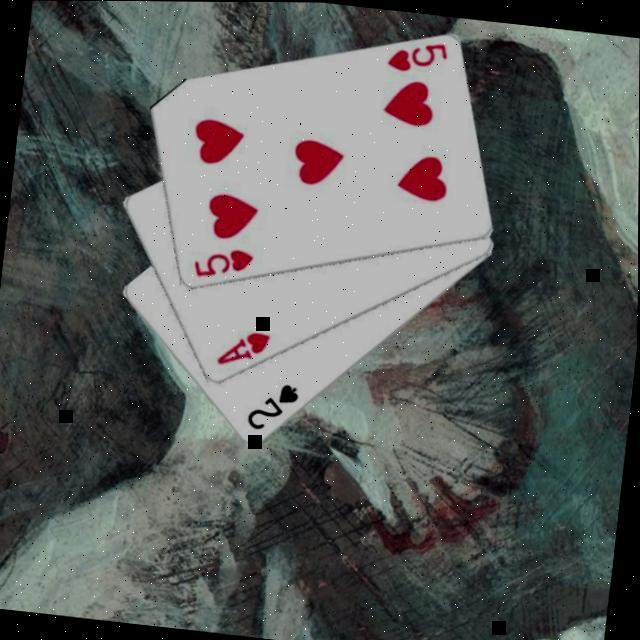2S: (242, 376, 302, 436)
5H: (381, 34, 451, 79), (187, 242, 255, 286)
AH: (212, 325, 272, 373)
